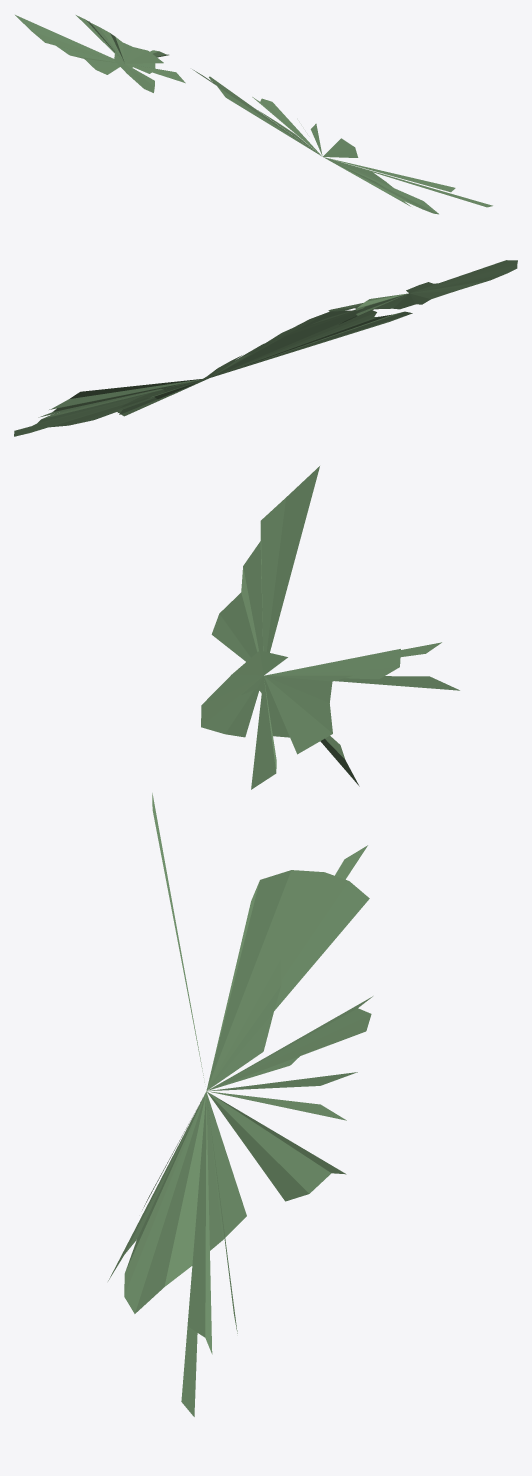
Rendered from c_1666_17822_forest.glb.
3 renders of one model, top to bottom at view 1: azimuth 30°, elevation 25°; view 2: azimuth 150°, elevation 25°; view 3: azimuth 270°, elevation 25°, orthographic. The views are drawn at different scales.
Visible parts, largest first — view 1: geometry_0; view 2: geometry_0; view 3: geometry_0.
Part boxes in pixels (x1=…): geometry_0: x1=15, y1=15, x2=492, y2=214; geometry_0: x1=14, y1=260, x2=517, y2=436; geometry_0: x1=108, y1=466, x2=459, y2=1416.
Bounding box in the file's own units: 747 × 452 × 283.
